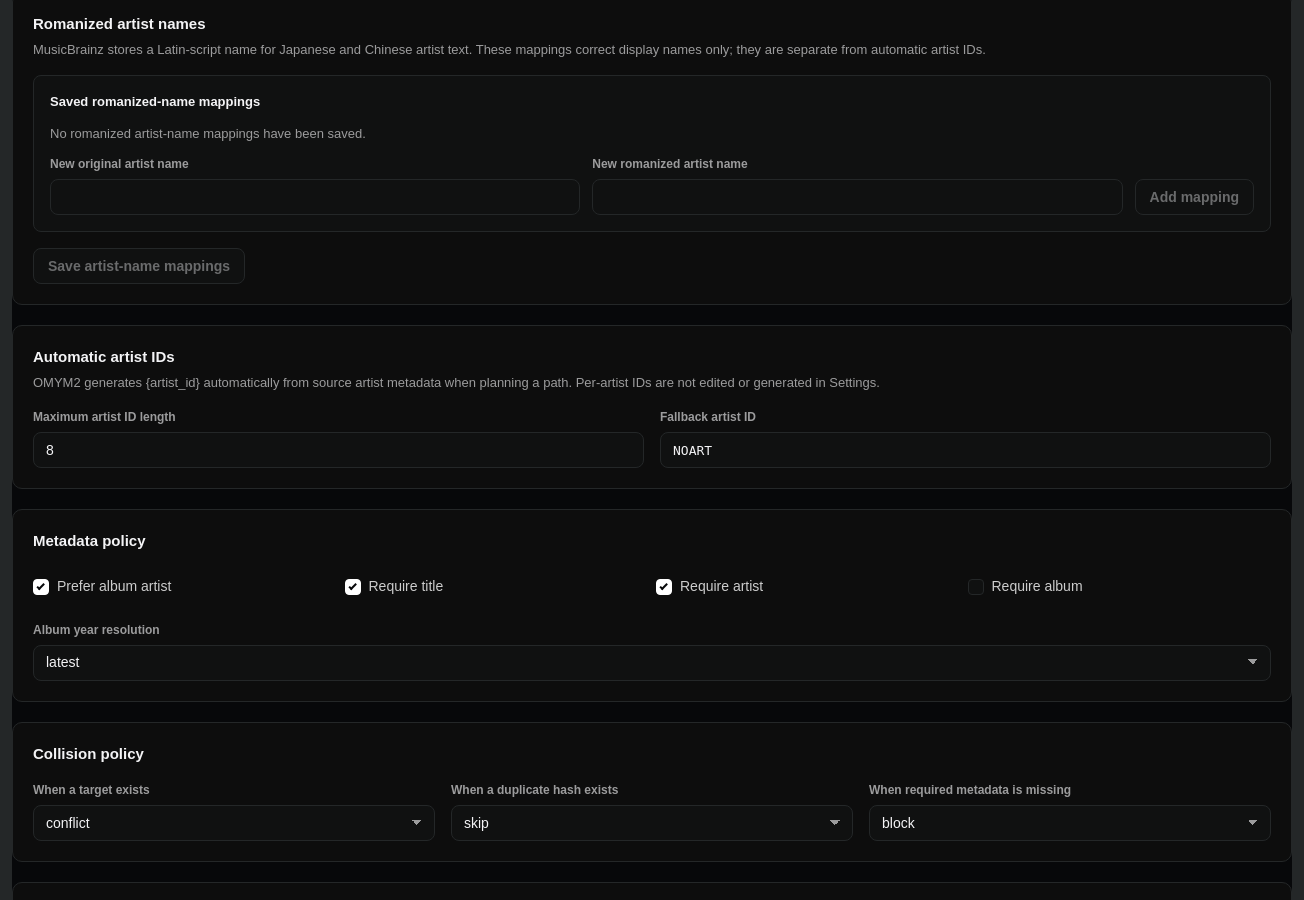
Test case: Settings route › checks browser field constraints before saving and waits for another edit
The image size is (1304, 900).
(page scrolled)
Replace the text in the number field labelled "Maximum artist ID length" with "0" at (338, 450), box [33,432,644,468]
Wait 600 ms
(page scrolled)
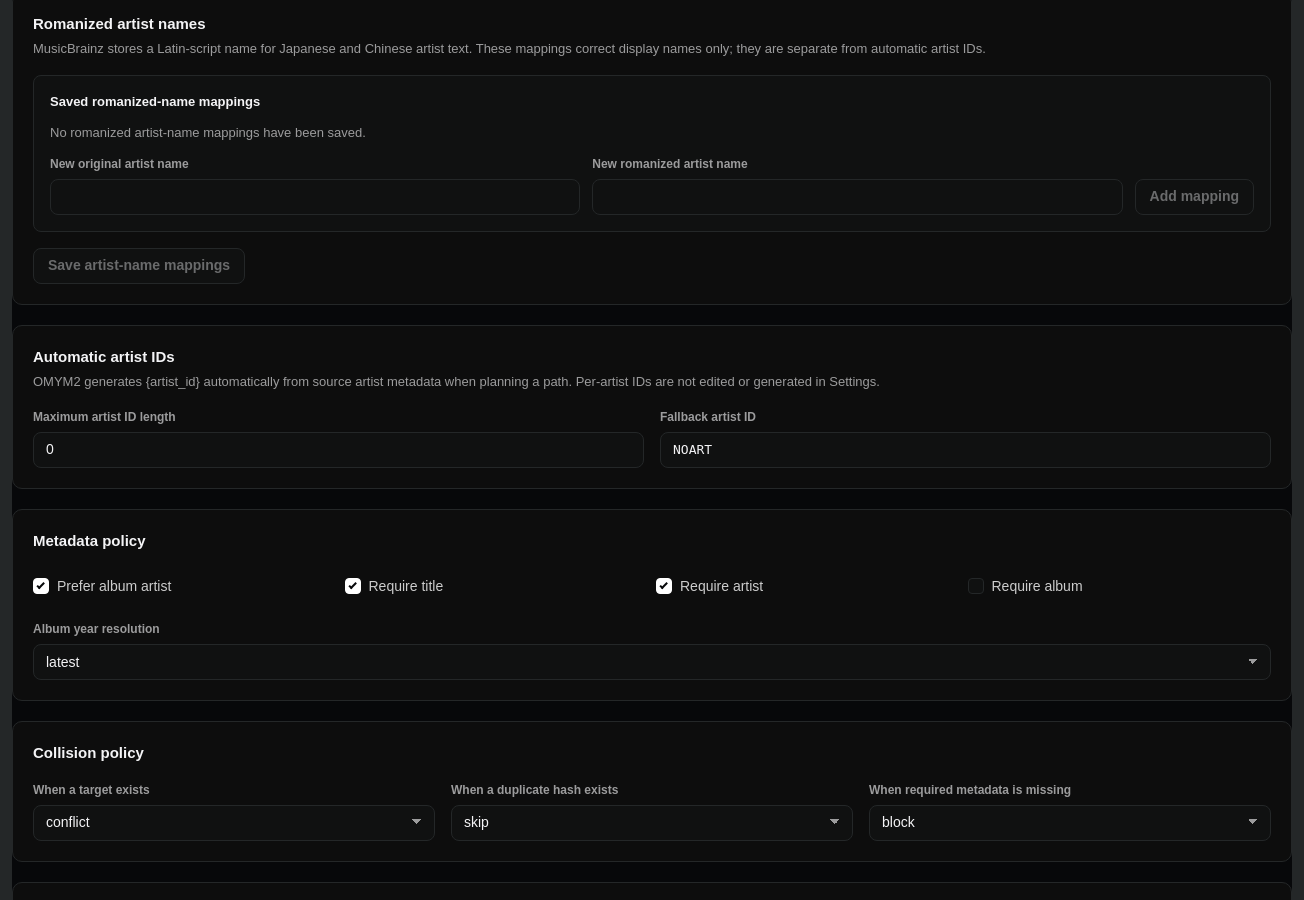
Replace the text in the number field labelled "Maximum artist ID length" with "9" at (338, 450), box [33,432,644,468]
Wait 600 ms
(page scrolled)
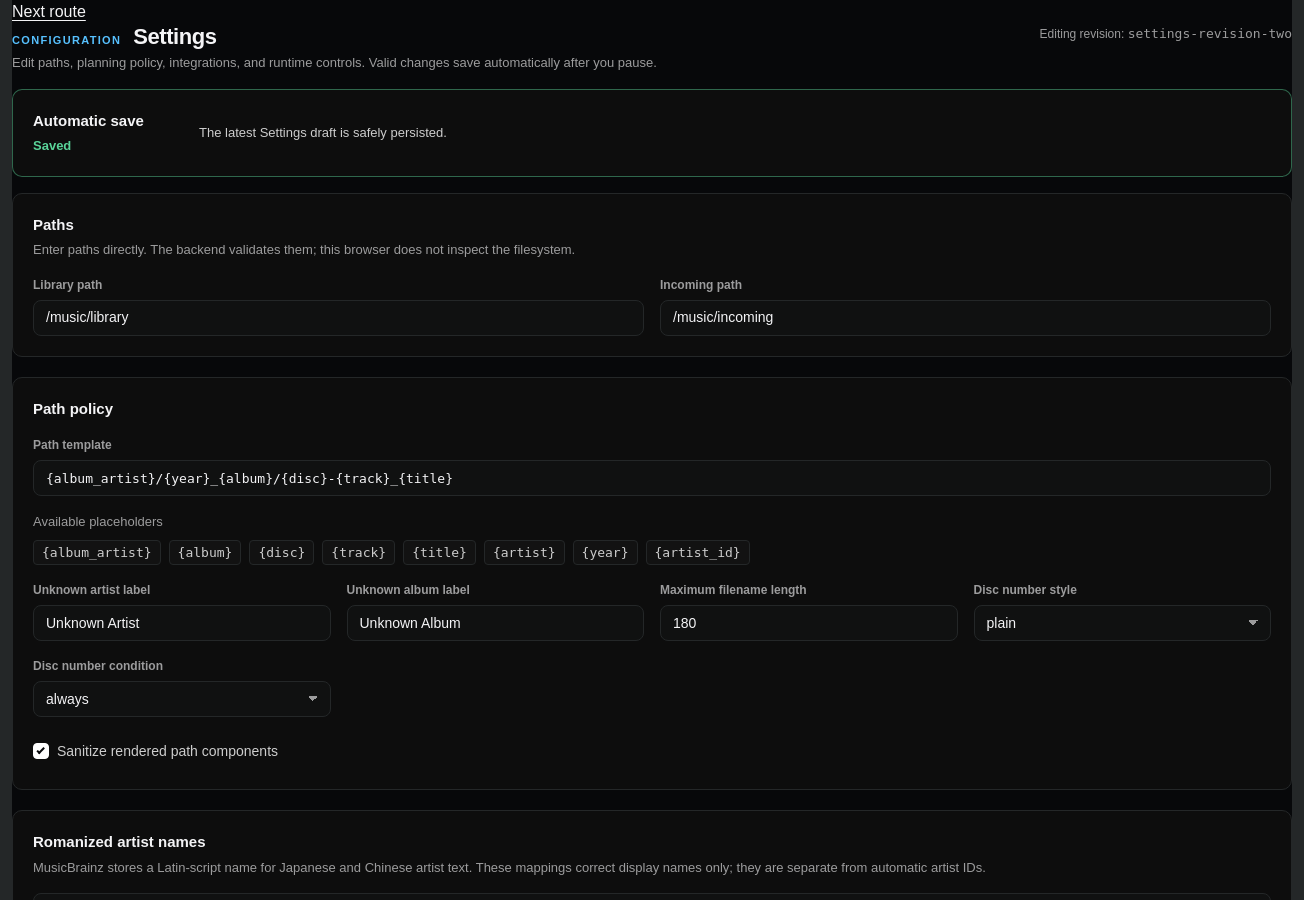
Now the message "Automatic save" shows "Saved", box [33,138,71,153]
